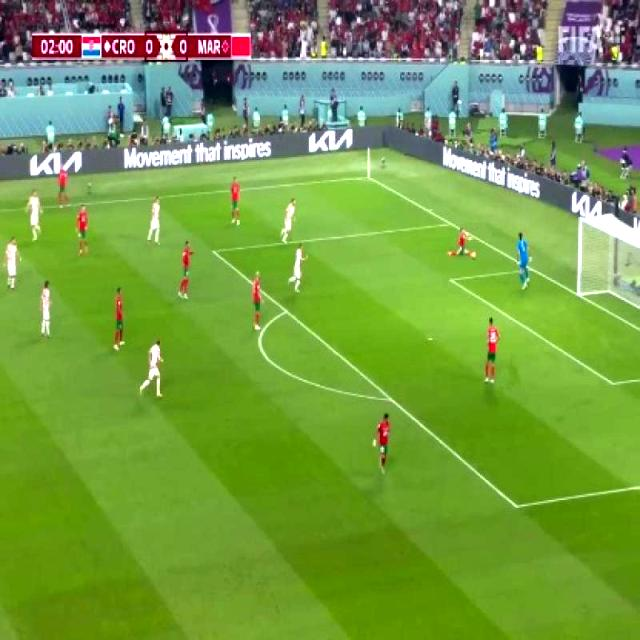bigarea_bottom_inner: (508, 492, 524, 518)
bigarea_top_inner: (208, 244, 218, 258)
bigarea_top_outter: (444, 218, 454, 230)
bottom_arc_area_intersection: (383, 390, 395, 408)
corner: (361, 174, 371, 181)
smallarea_bottom_inner: (604, 372, 619, 394)
smallarea_top_inner: (446, 272, 457, 286)
top_arc_area_intersection: (278, 303, 292, 320)
